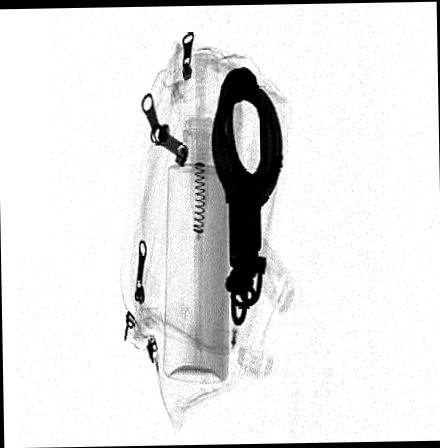HandCuffs: (211, 65, 282, 325)
